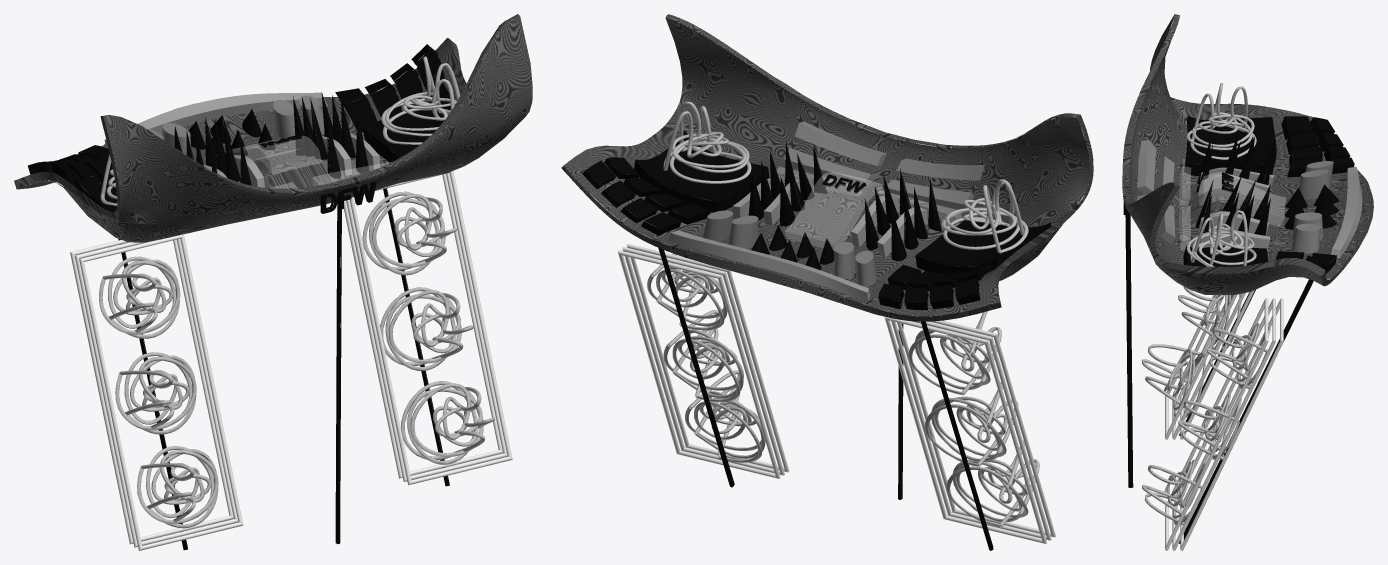
File: DJ2_2_BLACK-v46.glb
3 renders of one model, left to right at view 1: azimuth 30°, elevation 25°; view 2: azimuth 150°, elevation 25°; view 3: azimuth 270°, elevation 25°, orthographic. The views are drawn at different scales.
Visible parts, largest first — view 1: DJSET_2-V2, donen dalga.001, DJ2_2_BLACK; view 2: DJSET_2-V2, donen dalga.001, DJ2_2_BLACK; view 3: DJSET_2-V2, donen dalga.001, DJ2_2_BLACK.
Part boxes in pixels (<box>): DJSET_2-V2: <box>14,14,532,550</box>; donen dalga.001: <box>99,191,494,528</box>; DJ2_2_BLACK: <box>100,56,461,206</box>; DJSET_2-V2: <box>561,14,1093,550</box>; donen dalga.001: <box>647,253,1039,527</box>; DJ2_2_BLACK: <box>663,101,1028,253</box>; DJSET_2-V2: <box>1122,14,1373,550</box>; donen dalga.001: <box>1141,286,1270,525</box>; DJ2_2_BLACK: <box>1186,83,1256,266</box>.
Bounding box in the file's own units: 1.2 × 1.19 × 0.701.
Materials: 10 (1 with a texture image).
